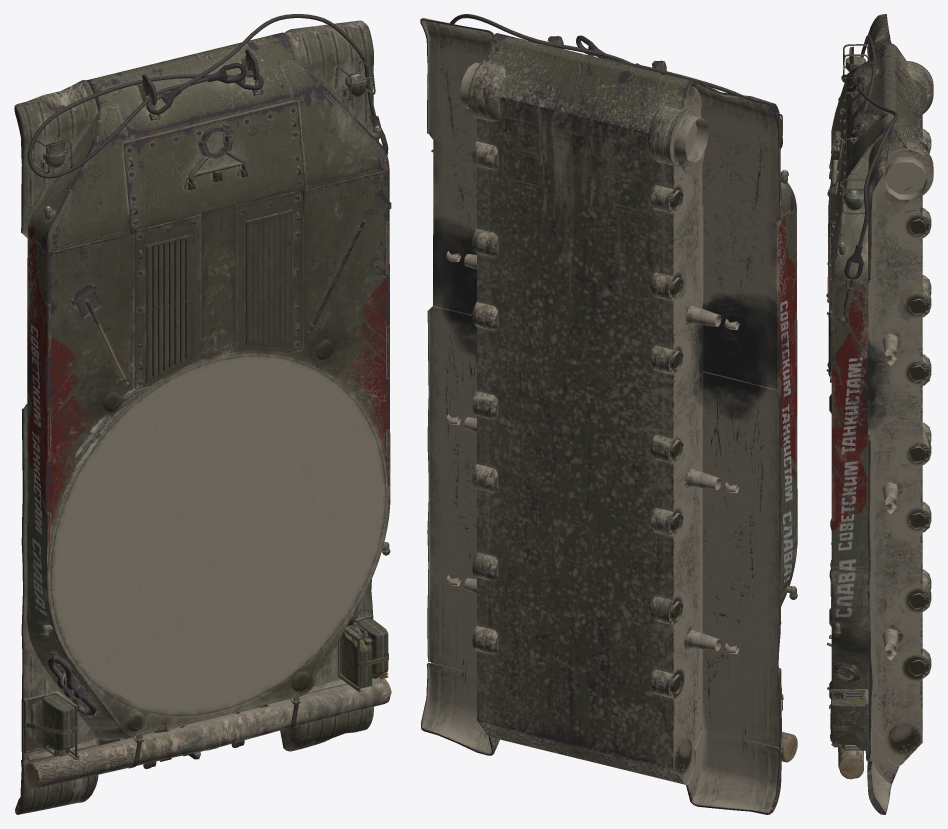
Rendered from Hull.glb.
The picture shows the model from 3 angles, left to right: view 1: azimuth 30°, elevation 25°; view 2: azimuth 150°, elevation 25°; view 3: azimuth 270°, elevation 25°; orthographic projection. The views are drawn at different scales.
Parts seen in each view (by area): view 1: set_0_group_0; view 2: set_0_group_0; view 3: set_0_group_0.
Part boxes in pixels (bbox=[...]): set_0_group_0: bbox=[14, 14, 391, 814]; set_0_group_0: bbox=[420, 14, 797, 814]; set_0_group_0: bbox=[826, 14, 933, 814].
Size of the model in its own units: 3.46 by 6.8 by 0.9859.
Materials: 1 (1 with a texture image).
